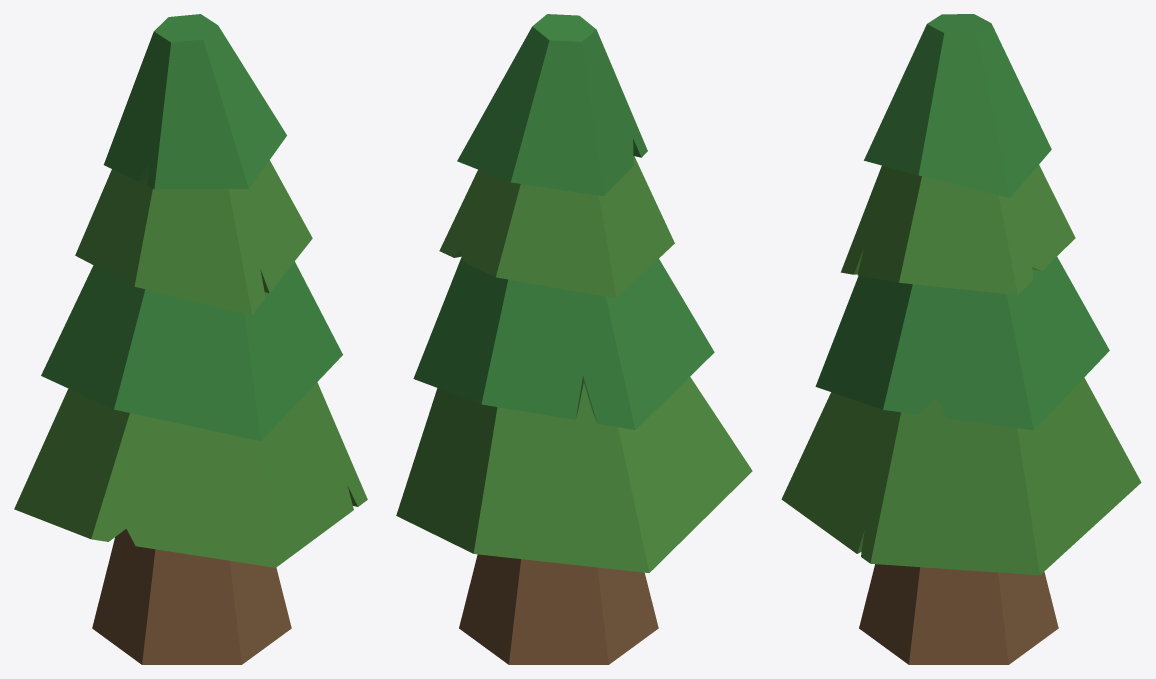
File: tree1.fbx
3 views of the same model, side by side, from view 1: azimuth 30°, elevation 25°; view 2: azimuth 150°, elevation 25°; view 3: azimuth 270°, elevation 25° (orthographic).
Parts seen in each view (by area): view 1: Cylinder.019, Cylinder.020, Cylinder.021, Cylinder.022, Cylinder.016; view 2: Cylinder.019, Cylinder.020, Cylinder.022, Cylinder.021, Cylinder.016; view 3: Cylinder.019, Cylinder.020, Cylinder.022, Cylinder.021, Cylinder.016.
Boxes of the visible parts, bbox=[...] form: Cylinder.019: bbox=[14, 382, 367, 567]; Cylinder.020: bbox=[41, 261, 342, 441]; Cylinder.021: bbox=[75, 160, 312, 314]; Cylinder.022: bbox=[103, 14, 286, 189]; Cylinder.016: bbox=[92, 529, 291, 664]; Cylinder.019: bbox=[396, 377, 752, 572]; Cylinder.020: bbox=[413, 257, 714, 429]; Cylinder.022: bbox=[457, 14, 647, 196]; Cylinder.021: bbox=[439, 156, 674, 298]; Cylinder.016: bbox=[459, 554, 658, 664]; Cylinder.019: bbox=[781, 377, 1141, 575]; Cylinder.020: bbox=[815, 257, 1109, 430]; Cylinder.022: bbox=[864, 14, 1051, 198]; Cylinder.021: bbox=[840, 165, 1075, 295]; Cylinder.016: bbox=[859, 564, 1058, 664].
Size of the model in its own units: 185 by 383 by 207.
